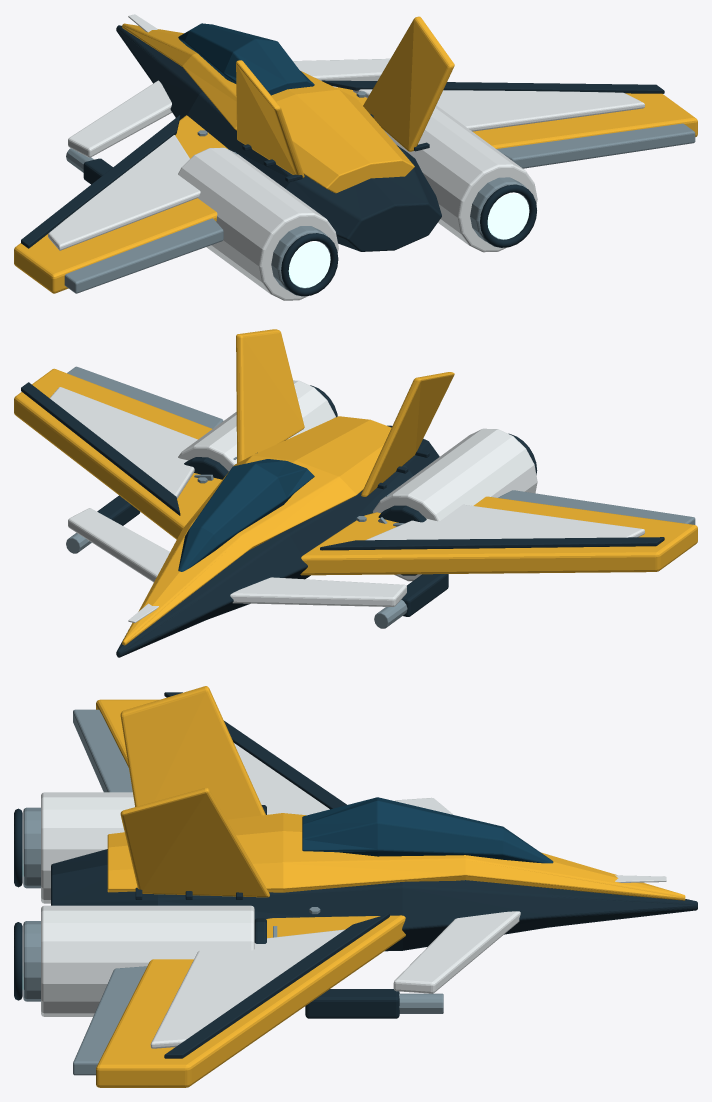
Rendered from PlayerCraft-v3.fbx.
3 views of the same model, one above another, from view 1: azimuth 30°, elevation 25°; view 2: azimuth 150°, elevation 25°; view 3: azimuth 270°, elevation 25° (orthographic). The views are drawn at different scales.
Parts seen in each view (by area): view 1: GFC2_Player_Hull, GFC2_Player_DorsalArmor, GFC2_Player_EngineShroud_L, GFC2_Player_EngineShroud_R, GFC2_Player_WingArmor_L, GFC2_Player_Wing_L, GFC2_Player_TailFin_R, GFC2_Player_WingArmor_R, GFC2_Player_Wing_R, GFC2_Player_Canopy, GFC2_Player_Elevon_R, GFC2_Player_TailFin_L (+12 smaller); view 2: GFC2_Player_Wing_L, GFC2_Player_DorsalArmor, GFC2_Player_Hull, GFC2_Player_Wing_R, GFC2_Player_EngineShroud_L, GFC2_Player_TailFin_R, GFC2_Player_Canopy, GFC2_Player_WingArmor_R, GFC2_Player_WingArmor_L, GFC2_Player_Canard_L, GFC2_Player_TailFin_L, GFC2_Player_LeadingCarbon_L (+10 smaller); view 3: GFC2_Player_Hull, GFC2_Player_Wing_R, GFC2_Player_DorsalArmor, GFC2_Player_EngineShroud_R, GFC2_Player_TailFin_L, GFC2_Player_TailFin_R, GFC2_Player_Canopy, GFC2_Player_WingArmor_R, GFC2_Player_EngineShroud_L, GFC2_Player_Canard_R, GFC2_Player_LeadingCarbon_R, GFC2_Player_Elevon_R (+10 smaller).
Part boxes in pixels (left/top/right/bottom): GFC2_Player_Hull: left=116, top=25, right=441, bottom=251; GFC2_Player_DorsalArmor: left=122, top=23, right=414, bottom=193; GFC2_Player_EngineShroud_L: left=178, top=147, right=338, bottom=300; GFC2_Player_EngineShroud_R: left=383, top=105, right=537, bottom=252; GFC2_Player_WingArmor_L: left=48, top=135, right=200, bottom=250; GFC2_Player_Wing_L: left=14, top=115, right=227, bottom=293; GFC2_Player_TailFin_R: left=363, top=16, right=454, bottom=151; GFC2_Player_WingArmor_R: left=353, top=89, right=644, bottom=131; GFC2_Player_Wing_R: left=335, top=87, right=697, bottom=148; GFC2_Player_Canopy: left=178, top=23, right=314, bottom=95; GFC2_Player_Elevon_R: left=496, top=123, right=695, bottom=168; GFC2_Player_TailFin_L: left=236, top=60, right=304, bottom=177; GFC2_Player_Wing_L: left=300, top=496, right=697, bottom=575; GFC2_Player_DorsalArmor: left=122, top=416, right=391, bottom=645; GFC2_Player_Hull: left=116, top=425, right=439, bottom=657; GFC2_Player_Wing_R: left=14, top=368, right=221, bottom=539; GFC2_Player_EngineShroud_L: left=373, top=428, right=537, bottom=581; GFC2_Player_TailFin_R: left=236, top=329, right=304, bottom=463; GFC2_Player_Canopy: left=178, top=459, right=314, bottom=571; GFC2_Player_WingArmor_R: left=49, top=387, right=197, bottom=498; GFC2_Player_WingArmor_L: left=365, top=504, right=644, bottom=540; GFC2_Player_Canard_L: left=230, top=577, right=406, bottom=606; GFC2_Player_TailFin_L: left=361, top=372, right=454, bottom=496; GFC2_Player_LeadingCarbon_L: left=320, top=537, right=664, bottom=550; GFC2_Player_Hull: left=51, top=849, right=697, bottom=951; GFC2_Player_Wing_R: left=96, top=915, right=405, bottom=1087; GFC2_Player_DorsalArmor: left=107, top=813, right=685, bottom=900; GFC2_Player_EngineShroud_R: left=41, top=905, right=254, bottom=1016; GFC2_Player_TailFin_L: left=120, top=686, right=265, bottom=819; GFC2_Player_TailFin_R: left=120, top=788, right=269, bottom=897; GFC2_Player_Canopy: left=302, top=797, right=553, bottom=863; GFC2_Player_WingArmor_R: left=150, top=929, right=345, bottom=1048; GFC2_Player_EngineShroud_L: left=41, top=792, right=134, bottom=903; GFC2_Player_Canard_R: left=393, top=911, right=520, bottom=993; GFC2_Player_LeadingCarbon_R: left=164, top=914, right=389, bottom=1058; GFC2_Player_Elevon_R: left=73, top=966, right=146, bottom=1075.
Bounding box in the file's own units: 2.8 × 0.7712 × 2.2.
